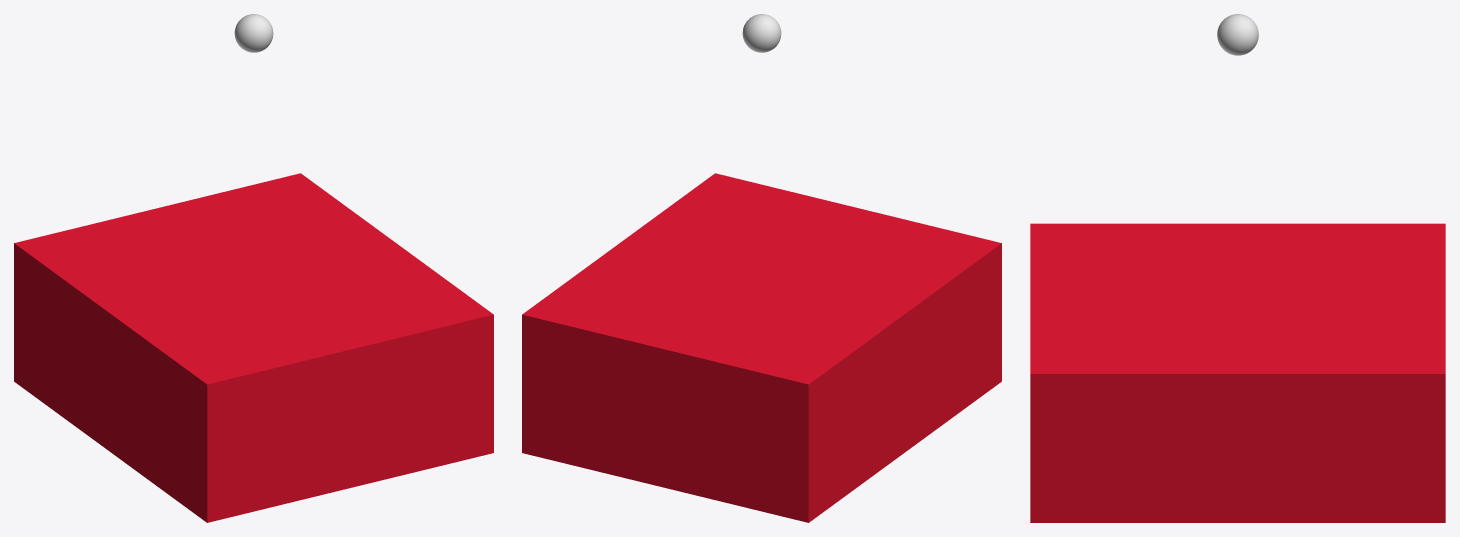
File: StoneScene.fbx
3 renders of one model, left to right at view 1: azimuth 30°, elevation 25°; view 2: azimuth 150°, elevation 25°; view 3: azimuth 270°, elevation 25°, orthographic. The views are drawn at different scales.
Parts seen in each view (by area): view 1: Cube, _Light_Point_0; view 2: Cube, _Light_Point_0; view 3: Cube, _Light_Point_0.
Boxes of the visible parts, x1=… form: Cube: x1=14, y1=173, x2=493, y2=522; _Light_Point_0: x1=234, y1=14, x2=273, y2=52; Cube: x1=522, y1=173, x2=1001, y2=522; _Light_Point_0: x1=742, y1=14, x2=781, y2=52; Cube: x1=1030, y1=223, x2=1445, y2=522; _Light_Point_0: x1=1217, y1=14, x2=1258, y2=55.
Size of the model in its own units: 2.17 by 2.9 by 2.53.
